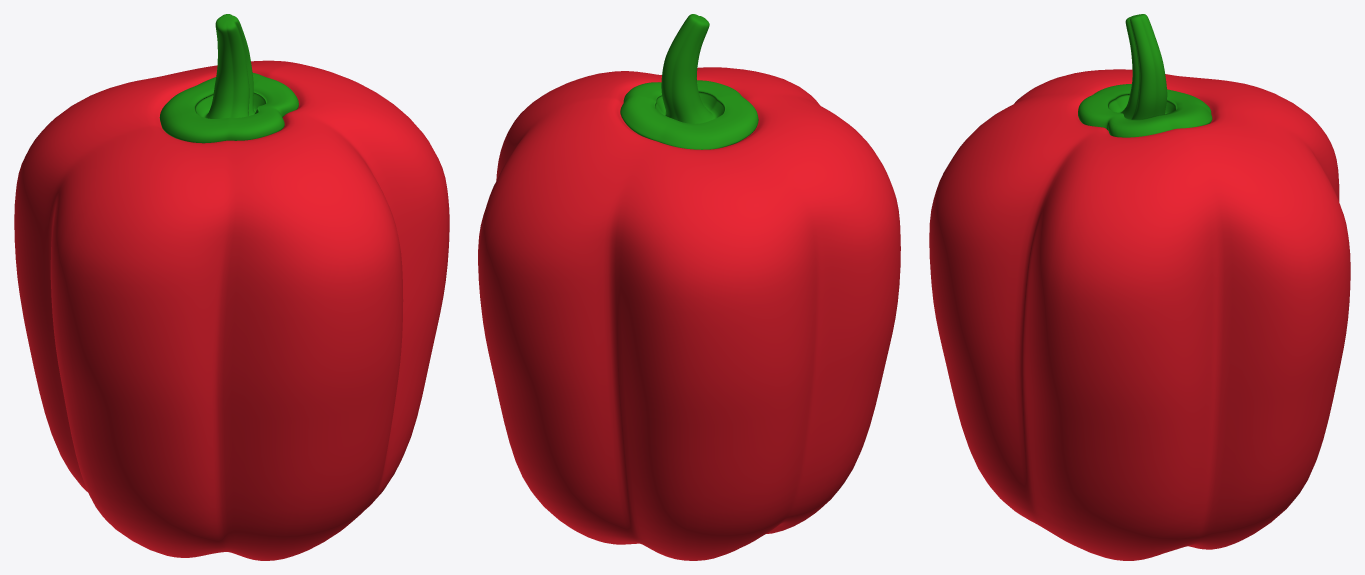
The model's file is Pimentão.gltf.
3 renders of one model, left to right at view 1: azimuth 30°, elevation 25°; view 2: azimuth 150°, elevation 25°; view 3: azimuth 270°, elevation 25°, orthographic.
Visible parts, largest first — view 1: Sphere.001; view 2: Sphere.001; view 3: Sphere.001.
Boxes of the visible parts, bbox=[...] form: Sphere.001: bbox=[14, 14, 449, 560]; Sphere.001: bbox=[478, 14, 900, 560]; Sphere.001: bbox=[929, 14, 1350, 560].
Bounding box in the file's own units: 0.2779 × 0.3634 × 0.2733.
